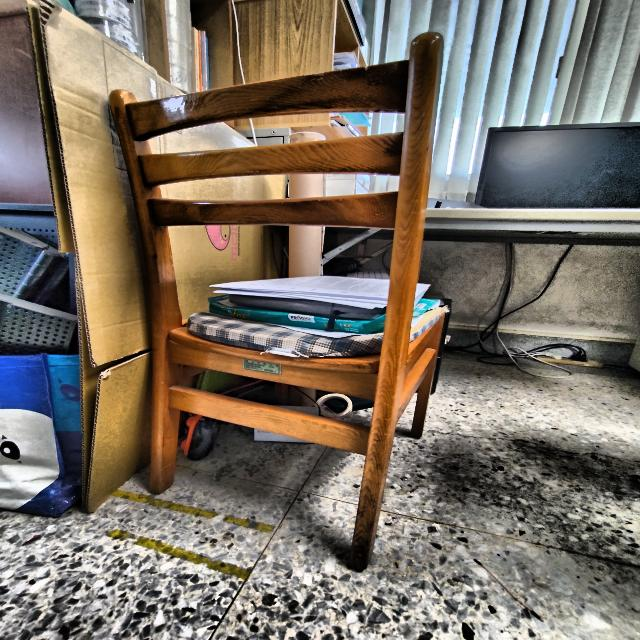cadeira: (99, 29, 488, 578)
